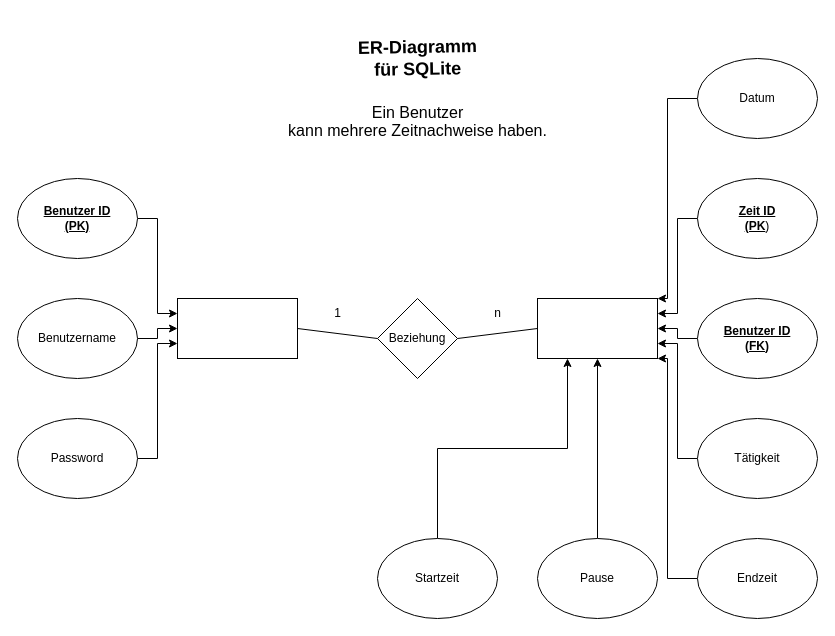
The diagram is 835 pixels wide and 636 high, and some of its shapes have lost their labels. Here are the shapes that lost their labels. From the top down, the centre of each, then its label:
At pixel 237 328: "Benutzer".
At pixel 597 328: "Zeitnachweis".
